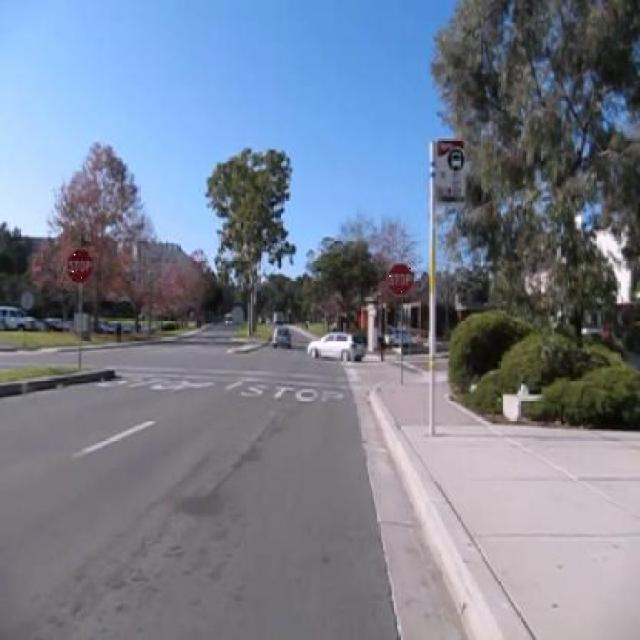stop: (68, 246, 95, 284), (388, 262, 415, 298)
